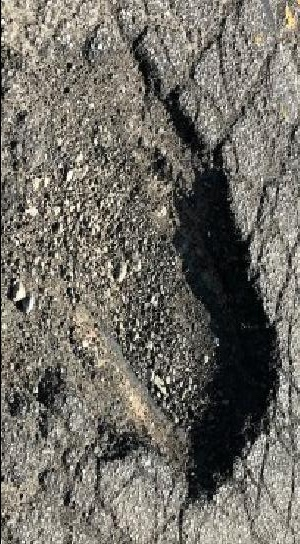pothole: (1, 14, 283, 510)
